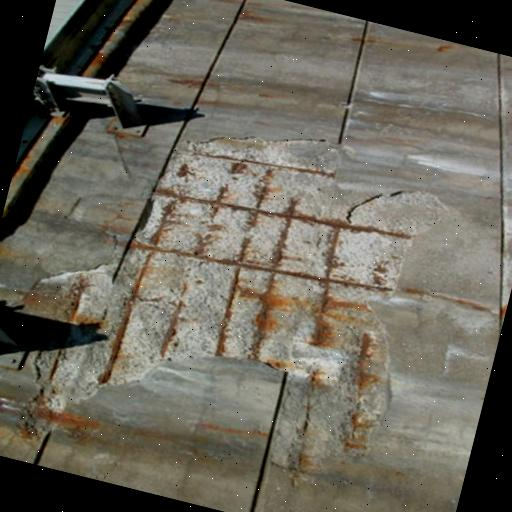spalling: (26, 140, 442, 413)
